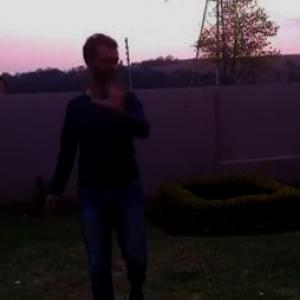follow_hand: (90, 64, 133, 115)
